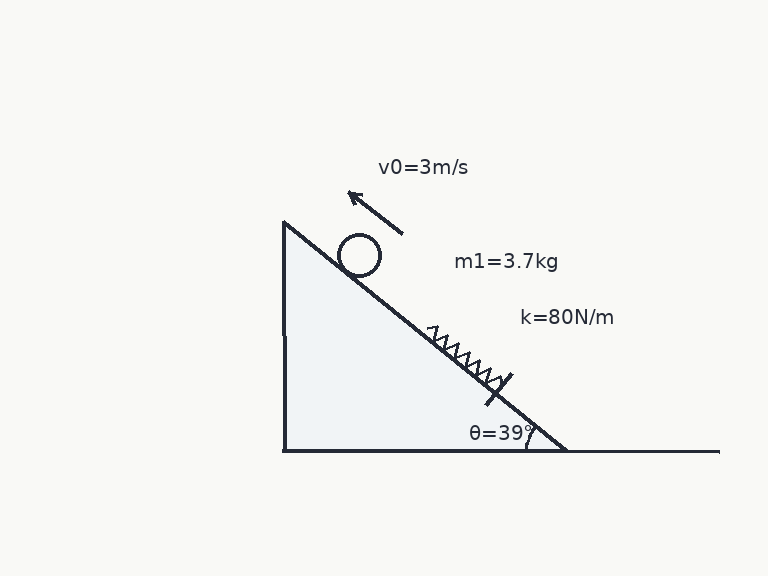ball: (335, 231, 383, 279)
ramp: (281, 220, 568, 453)
spring: (425, 324, 503, 389)
